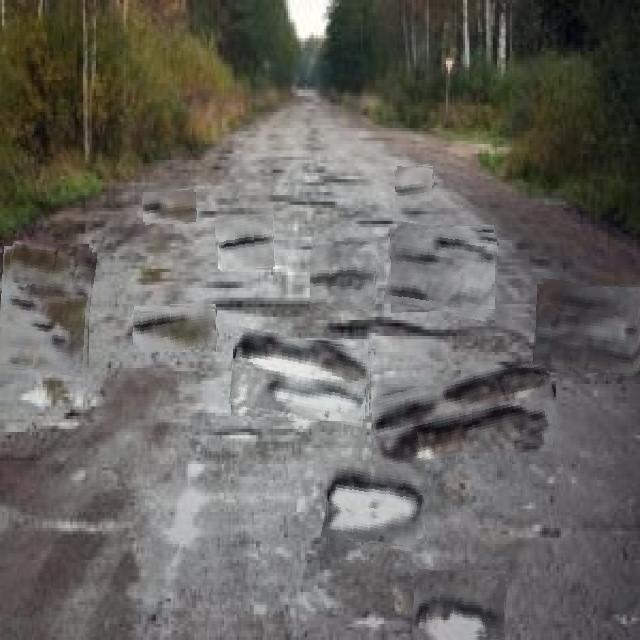Pothole: (372, 368, 560, 464), (231, 333, 372, 421), (0, 244, 93, 374), (387, 225, 497, 317), (534, 281, 640, 373), (325, 460, 425, 550), (412, 570, 506, 640), (310, 237, 377, 310), (132, 302, 217, 352), (216, 215, 274, 271), (142, 190, 197, 224), (395, 164, 435, 201)
